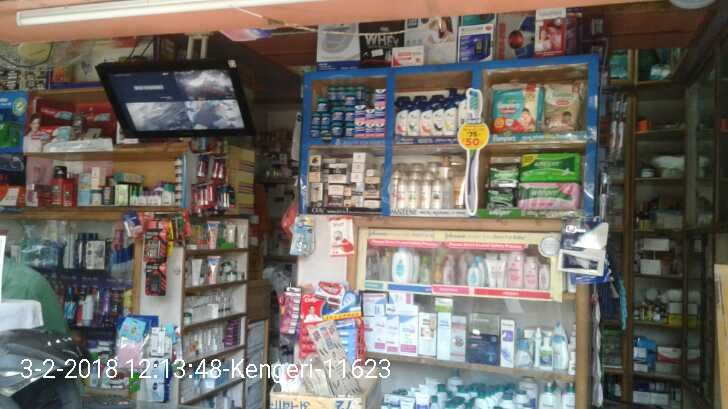beauty: (404, 102, 420, 138), (306, 152, 323, 182), (417, 104, 432, 138), (442, 103, 457, 137), (327, 163, 348, 187), (393, 102, 407, 136), (362, 175, 381, 200), (404, 179, 419, 210), (430, 178, 444, 210), (327, 185, 345, 209), (418, 177, 431, 209), (390, 166, 399, 209), (432, 106, 442, 135), (396, 180, 405, 208)
pharmacy: (492, 85, 540, 135), (517, 181, 581, 210), (541, 86, 577, 129), (521, 153, 575, 181), (486, 186, 516, 211), (491, 158, 515, 186), (373, 87, 388, 111), (374, 119, 386, 143), (363, 116, 375, 139), (353, 116, 365, 138), (313, 96, 329, 112), (342, 104, 357, 121), (329, 104, 343, 122), (329, 123, 342, 138), (319, 113, 331, 127), (342, 122, 354, 134), (310, 112, 319, 125)
